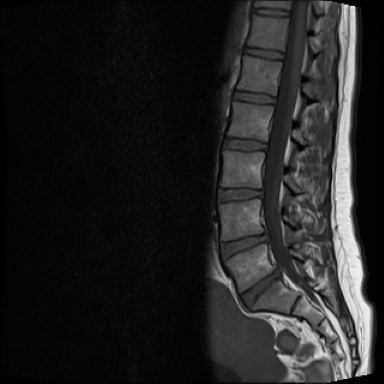Lumbar Disc Bulge (LDB): (231, 263, 289, 315), (212, 228, 279, 268)
Normal IVD: (213, 182, 269, 211), (226, 86, 282, 109), (220, 133, 273, 155), (239, 45, 289, 66), (251, 7, 294, 22)
Spinal Stenosis (SS): (269, 261, 286, 289), (259, 228, 277, 248)
